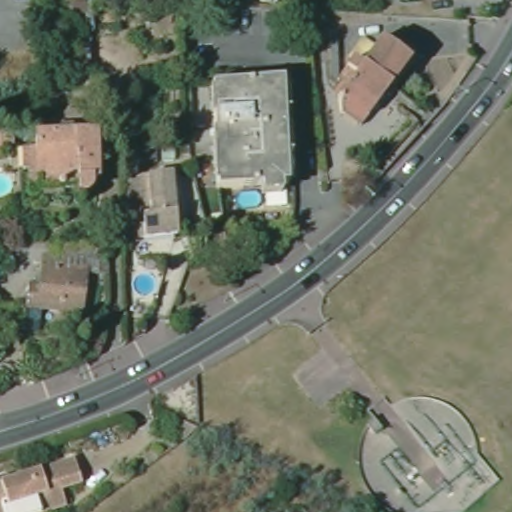pool: (232, 188, 265, 211), (131, 273, 157, 298), (1, 169, 16, 198)
